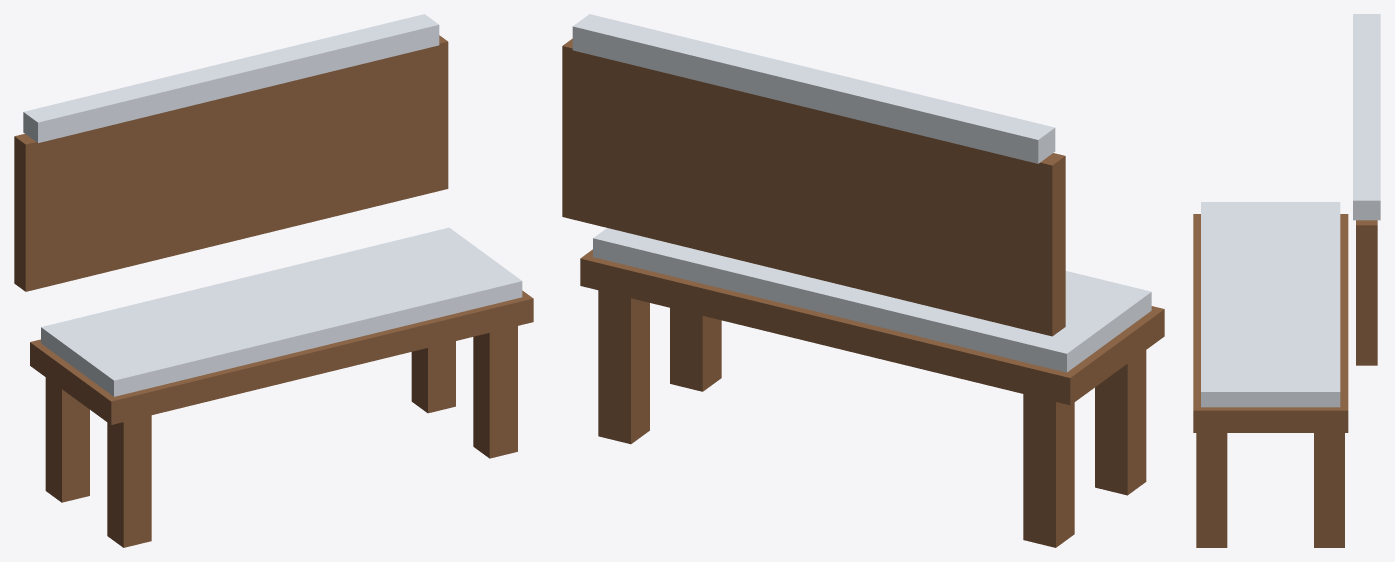
The model's file is bench.fbx.
3 renders of one model, left to right at view 1: azimuth 30°, elevation 25°; view 2: azimuth 150°, elevation 25°; view 3: azimuth 270°, elevation 25°, orthographic. The views are drawn at different scales.
Visible parts, largest first — view 1: bench; view 2: bench; view 3: bench.
Part boxes in pixels (x1,y1,x2,y2): bench: (14, 14, 533, 547); bench: (562, 14, 1164, 547); bench: (1193, 14, 1380, 547).
Size of the model in its own units: 700 by 580 by 282.
